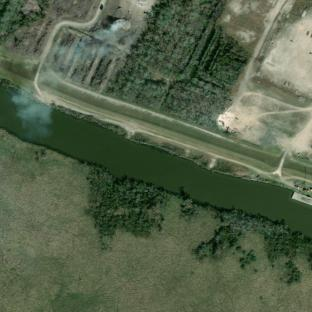Floresta: (105, 0, 249, 127), (193, 211, 312, 284), (87, 165, 166, 248), (0, 0, 50, 45)
